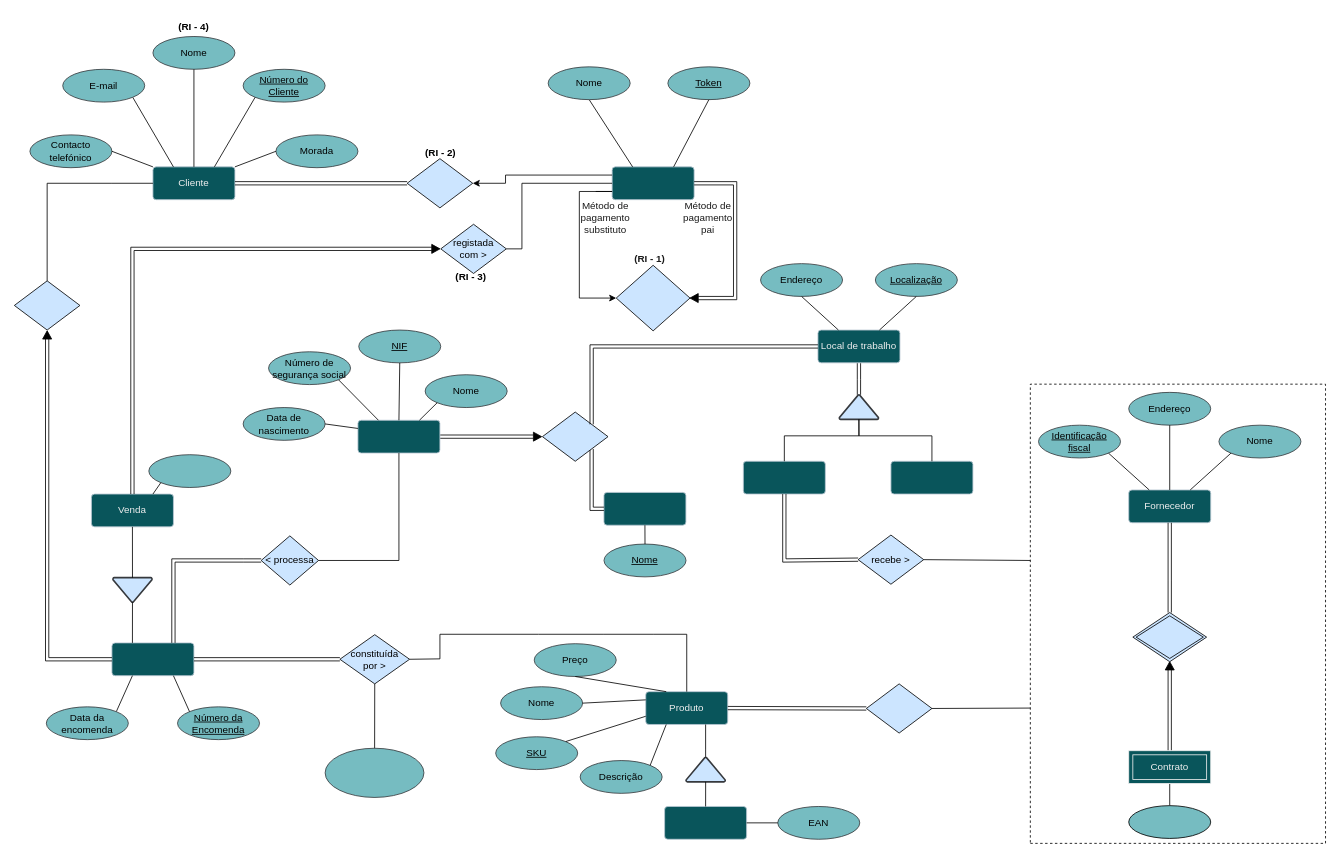
The diagram is 1341 pixels wide and 859 high, and some of its shapes have lost their labels. Each missing label, with the box of its shape:
Armazém: (743, 460, 825, 494)
Data: (1128, 805, 1211, 838)
Data de pagamento: (148, 454, 231, 487)
Departamento: (603, 492, 686, 525)
efetua v: (14, 280, 80, 330)
Empregado: (357, 419, 440, 453)
Encomenda: (111, 642, 194, 676)
enviado >: (866, 683, 932, 733)
Escritório: (890, 460, 973, 494)
Método de pagamento: (611, 166, 694, 200)
Produto com código EAN: (664, 806, 747, 839)
Quantidade de produto encomendado: (324, 747, 424, 797)
tem >: (406, 158, 473, 208)
tem v: (1132, 612, 1207, 662)
trabalha em >: (542, 411, 608, 461)
é substituto de >: (615, 264, 690, 331)
